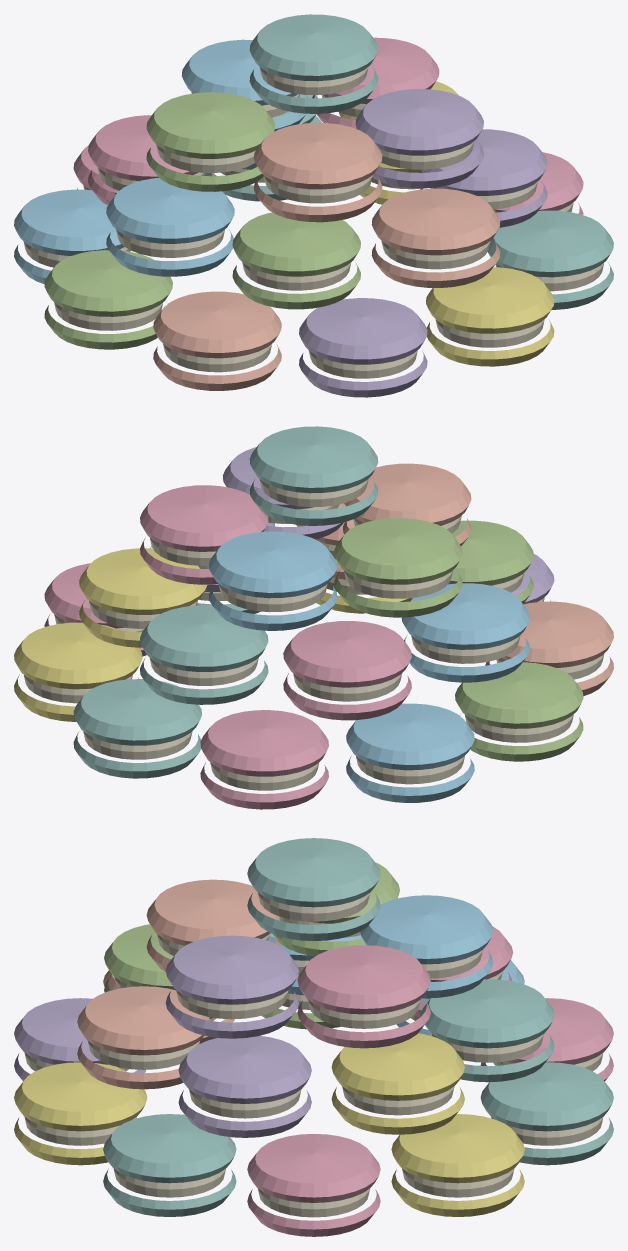
File: macarons.glb
The picture shows the model from 3 angles, top to bottom: view 1: azimuth 30°, elevation 25°; view 2: azimuth 150°, elevation 25°; view 3: azimuth 270°, elevation 25°; orthographic projection. The views are drawn at different scales.
Size of the model in its own units: 3.18 by 1.44 by 3.06.
